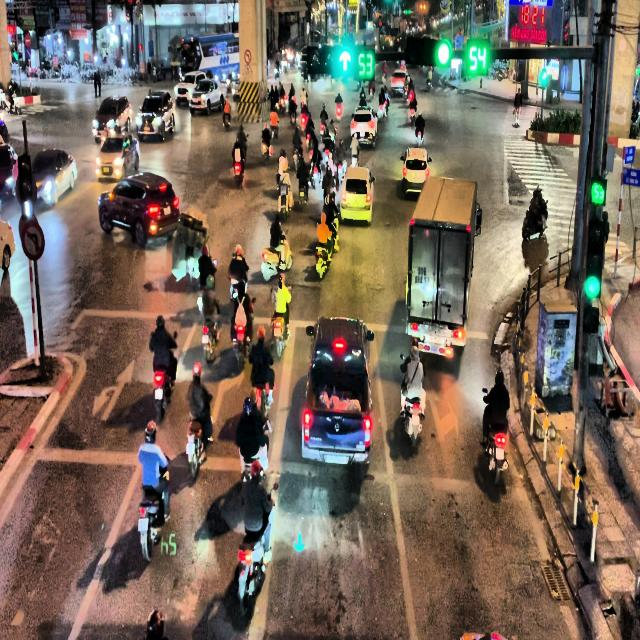lisence_plate: (321, 450, 349, 466), (415, 265, 430, 290), (423, 332, 445, 348), (163, 203, 171, 216), (351, 196, 358, 206), (413, 171, 419, 180), (354, 199, 360, 207), (360, 132, 366, 139)
